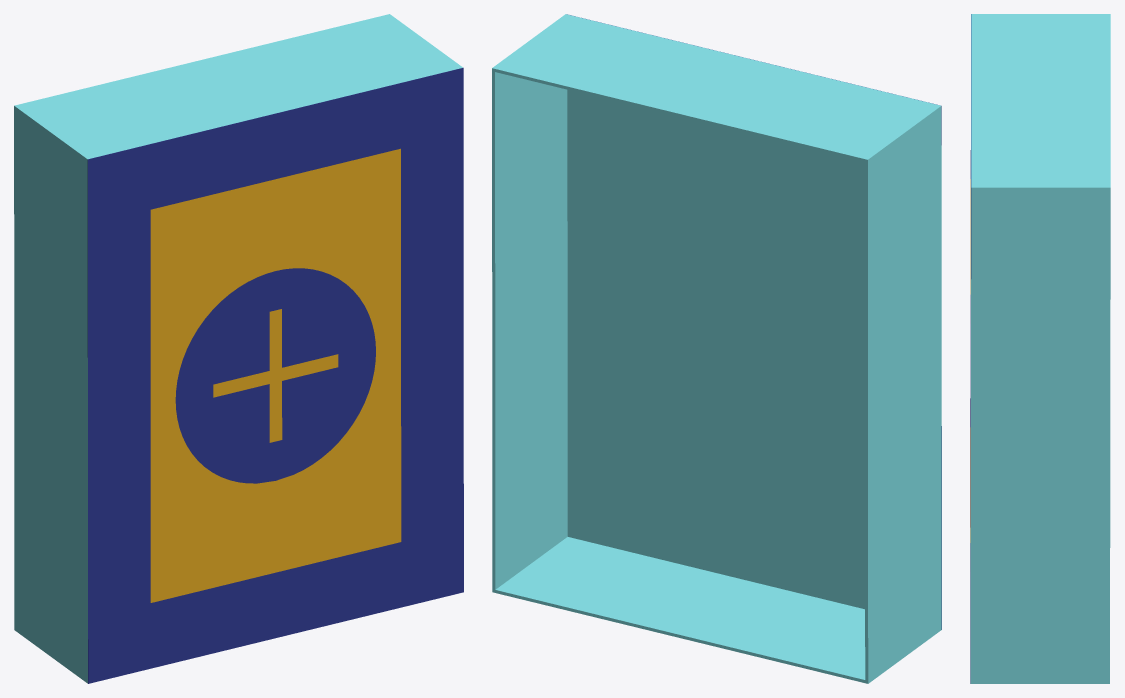
The model's file is takeoff_platform.obj.
3 renders of one model, left to right at view 1: azimuth 30°, elevation 25°; view 2: azimuth 150°, elevation 25°; view 3: azimuth 270°, elevation 25°, orthographic. The views are drawn at different scales.
Parts seen in each view (by area): view 1: cost_base_blue_frame_Body1.001, cost_base_yellow_frame_Body2.002, cost_base_Body1.001, cost_land_blue_circle_Body3.002, cost_land_cross_Body4.002, cost_base_plate_Body1.001; view 2: cost_base_plate_Body1.001, cost_base_Body1.001; view 3: cost_base_Body1.001, cost_base_plate_Body1.001, cost_base_blue_frame_Body1.001.
Part boxes in pixels (x1,y1,x2,y2): cost_base_blue_frame_Body1.001: [87, 67, 463, 683]; cost_base_yellow_frame_Body2.002: [150, 148, 401, 602]; cost_base_Body1.001: [14, 14, 461, 682]; cost_land_blue_circle_Body3.002: [175, 268, 375, 483]; cost_land_cross_Body4.002: [213, 309, 338, 442]; cost_base_plate_Body1.001: [86, 67, 462, 683]; cost_base_plate_Body1.001: [565, 14, 941, 630]; cost_base_Body1.001: [492, 15, 940, 683]; cost_base_Body1.001: [973, 14, 1110, 683]; cost_base_plate_Body1.001: [970, 14, 973, 683]; cost_base_blue_frame_Body1.001: [970, 14, 971, 683].
Size of the model in its own units: 1.5 by 2 by 0.5124.
